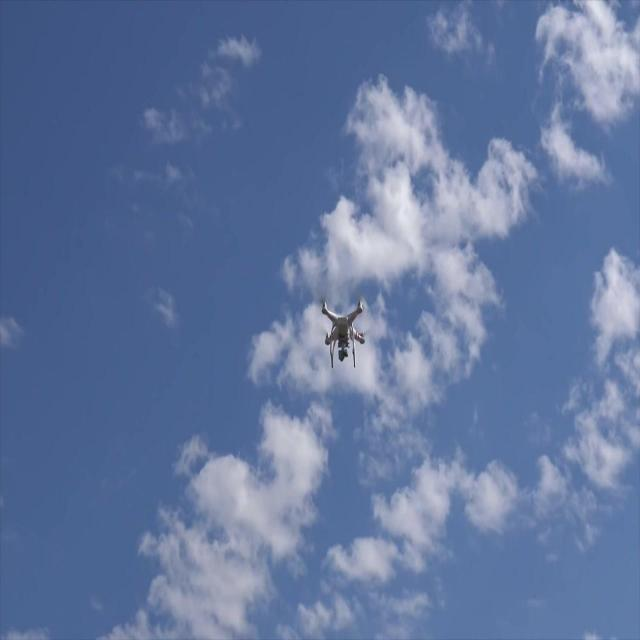UAV: (321, 299, 365, 369)
